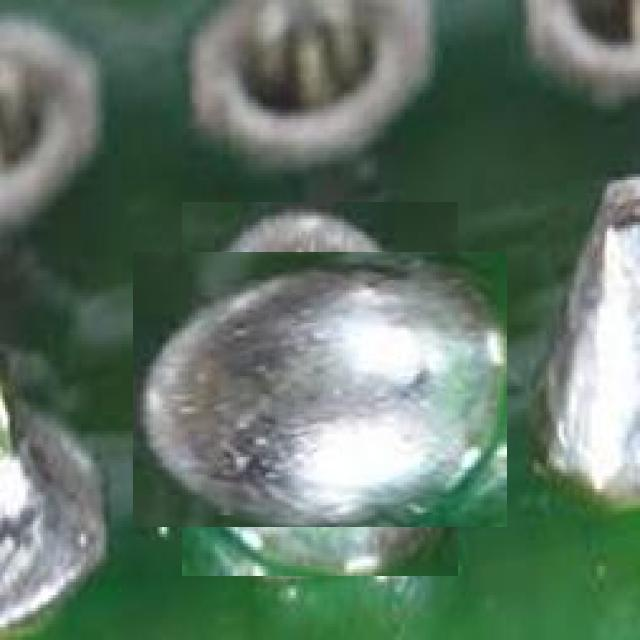slug: (158, 227, 482, 551)
